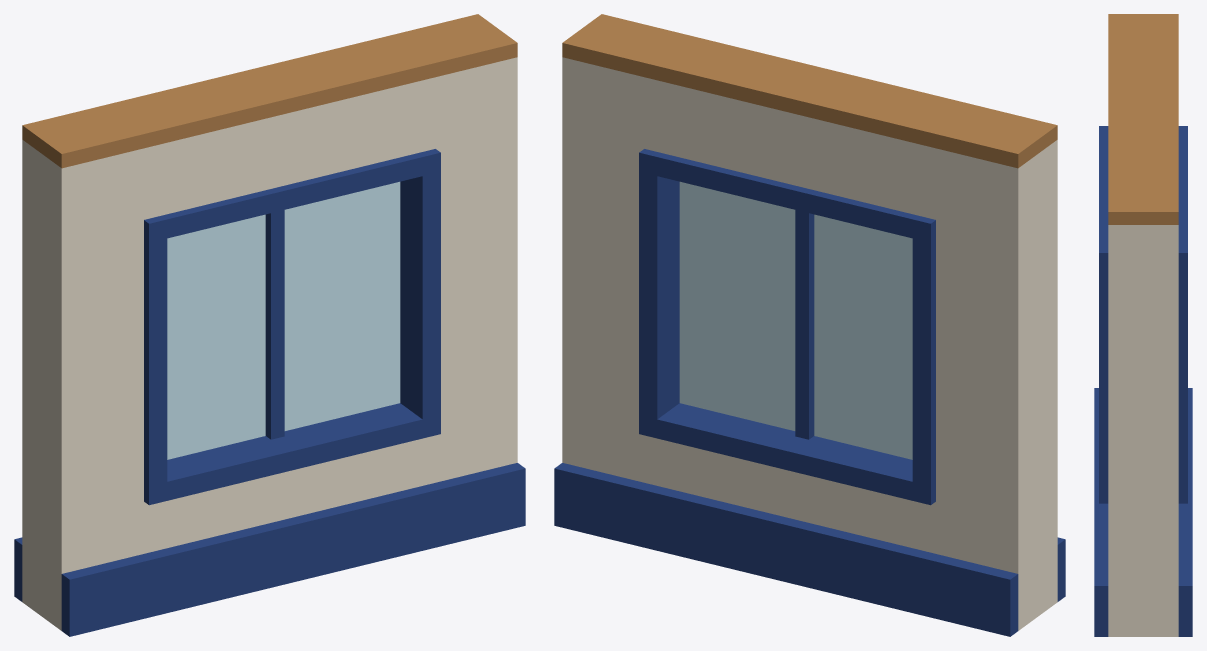
The model's file is wall-window.glb.
The picture shows the model from 3 angles, left to right: view 1: azimuth 30°, elevation 25°; view 2: azimuth 150°, elevation 25°; view 3: azimuth 270°, elevation 25°; orthographic projection. The views are drawn at different scales.
Visible parts, largest first — view 1: wall-window; view 2: wall-window; view 3: wall-window.
Part boxes in pixels (<box>): wall-window: <box>14,14,525,636</box>; wall-window: <box>554,14,1065,636</box>; wall-window: <box>1094,14,1192,636</box>.
Bounding box in the file's own units: 1 × 1 × 0.21.
1 material, 1 textured.
